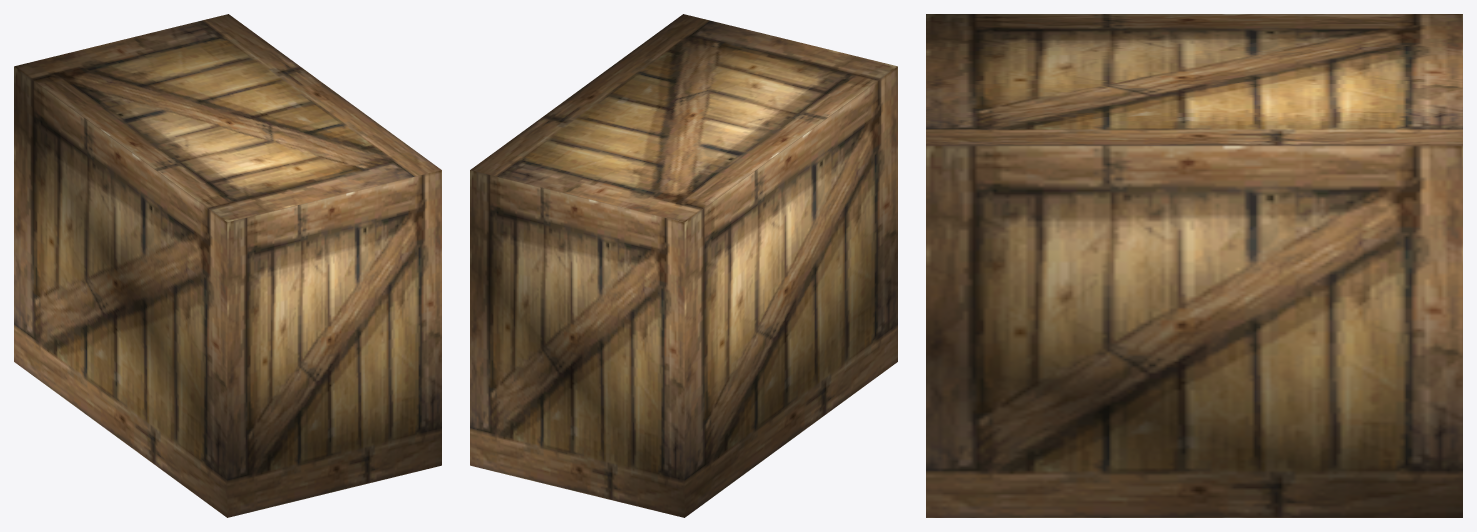
File: replacecrate02.obj
3 renders of one model, left to right at view 1: azimuth 30°, elevation 25°; view 2: azimuth 150°, elevation 25°; view 3: azimuth 270°, elevation 25°, orthographic. The views are drawn at different scales.
Size of the model in its own units: 0.5225 by 0.6878 by 0.8994.
1 material, 1 textured.
